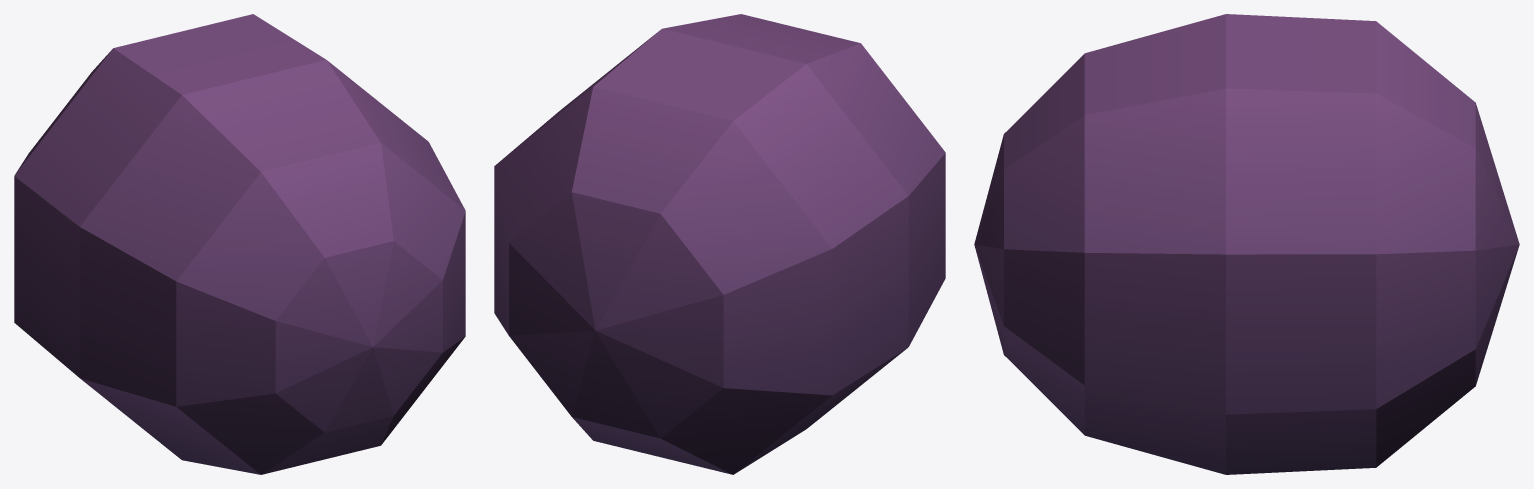
Rendered from Passion Fruit.fbx.
3 views of the same model, side by side, from view 1: azimuth 30°, elevation 25°; view 2: azimuth 150°, elevation 25°; view 3: azimuth 270°, elevation 25° (orthographic). The views are drawn at different scales.
Visible parts, largest first — view 1: Passion Fruit; view 2: Passion Fruit; view 3: Passion Fruit.
Part boxes in pixels (x1,y1,x2,y2): Passion Fruit: [14, 14, 465, 474]; Passion Fruit: [494, 14, 945, 474]; Passion Fruit: [974, 14, 1519, 474].
Size of the model in its own units: 7.31 by 7.31 by 9.35.
